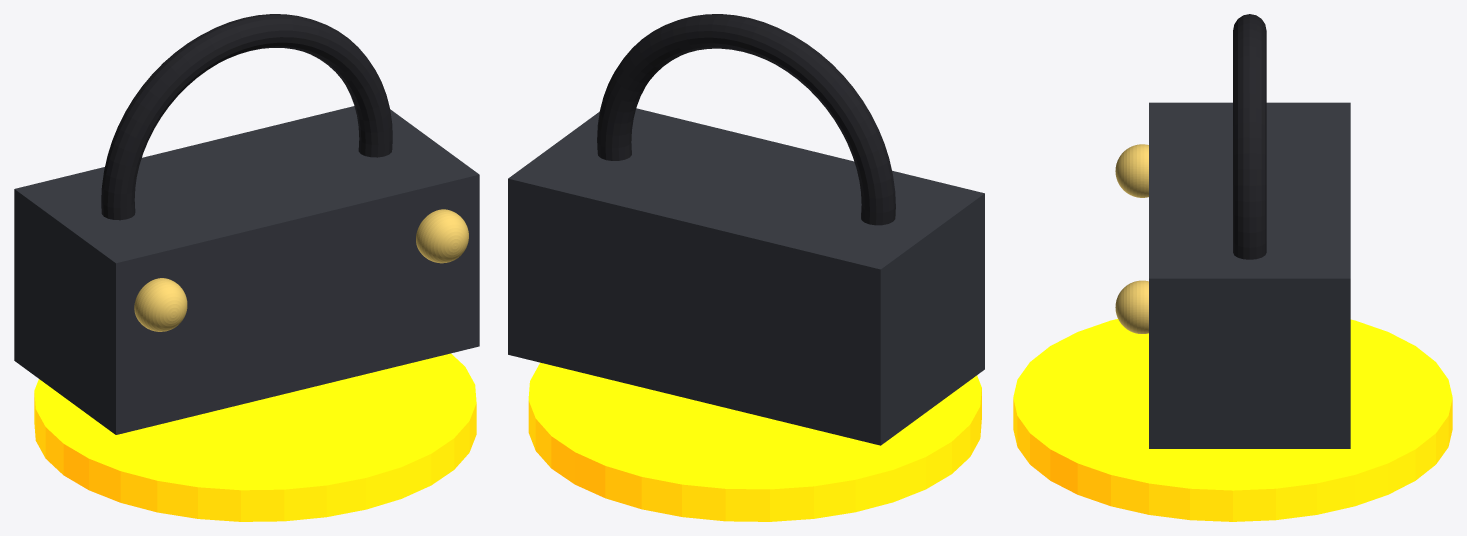
The model's file is fitness_gym_bag.glb.
3 views of the same model, side by side, from view 1: azimuth 30°, elevation 25°; view 2: azimuth 150°, elevation 25°; view 3: azimuth 270°, elevation 25° (orthographic). The views are drawn at different scales.
Visible parts, largest first — view 1: 02_13_Popular_Fitness_Gym_Bag_part_01, 02_13_Popular_Fitness_Gym_Bag_ROOT_base, 02_13_Popular_Fitness_Gym_Bag_part_02, 02_13_Popular_Fitness_Gym_Bag_part_03, 02_13_Popular_Fitness_Gym_Bag_part_04; view 2: 02_13_Popular_Fitness_Gym_Bag_part_01, 02_13_Popular_Fitness_Gym_Bag_ROOT_base, 02_13_Popular_Fitness_Gym_Bag_part_02; view 3: 02_13_Popular_Fitness_Gym_Bag_part_01, 02_13_Popular_Fitness_Gym_Bag_ROOT_base, 02_13_Popular_Fitness_Gym_Bag_part_02, 02_13_Popular_Fitness_Gym_Bag_part_03, 02_13_Popular_Fitness_Gym_Bag_part_04.
Part boxes in pixels (x1=…): 02_13_Popular_Fitness_Gym_Bag_part_01: x1=14, y1=106, x2=479, y2=434; 02_13_Popular_Fitness_Gym_Bag_ROOT_base: x1=34, y1=353, x2=476, y2=521; 02_13_Popular_Fitness_Gym_Bag_part_02: x1=101, y1=14, x2=392, y2=220; 02_13_Popular_Fitness_Gym_Bag_part_03: x1=134, y1=278, x2=187, y2=331; 02_13_Popular_Fitness_Gym_Bag_part_04: x1=416, y1=209, x2=468, y2=263; 02_13_Popular_Fitness_Gym_Bag_part_01: x1=508, y1=108, x2=984, y2=445; 02_13_Popular_Fitness_Gym_Bag_ROOT_base: x1=528, y1=362, x2=981, y2=521; 02_13_Popular_Fitness_Gym_Bag_part_02: x1=597, y1=14, x2=895, y2=225; 02_13_Popular_Fitness_Gym_Bag_part_01: x1=1149, y1=102, x2=1350, y2=448; 02_13_Popular_Fitness_Gym_Bag_ROOT_base: x1=1013, y1=319, x2=1452, y2=521; 02_13_Popular_Fitness_Gym_Bag_part_02: x1=1233, y1=14, x2=1266, y2=259; 02_13_Popular_Fitness_Gym_Bag_part_03: x1=1115, y1=144, x2=1148, y2=197; 02_13_Popular_Fitness_Gym_Bag_part_04: x1=1115, y1=280, x2=1148, y2=333.
Size of the model in its own units: 0.76 by 0.7629 by 0.76.
